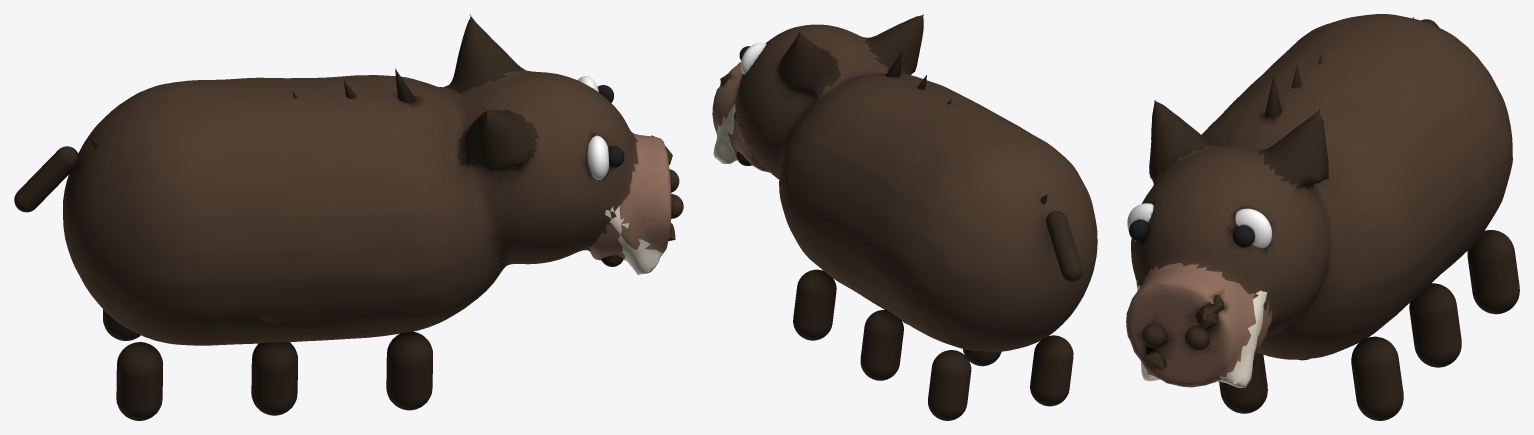
Rendered from jag-har-ont-i-magen.glb.
3 views of the same model, side by side, from view 1: azimuth 30°, elevation 25°; view 2: azimuth 150°, elevation 25°; view 3: azimuth 270°, elevation 25° (orthographic). The views are drawn at different scales.
Visible parts, largest first — view 1: javali__r0, javali__r4, javali__r2, javali__r3, javali__r17, javali__r23; view 2: javali__r0, javali__r4, javali__r9, javali__r7, javali__r8, javali__r17, javali__r3, javali__r5; view 3: javali__r0, javali__r7, javali__r9, javali__r8, javali__r2, javali__r5, javali__r20, javali__r18, javali__r19, javali__r10, javali__r23, javali__r6 (+1 smaller).
Boxes of the visible parts, bbox=[...] form: javali__r0: bbox=[63, 14, 671, 345]; javali__r4: bbox=[116, 342, 162, 420]; javali__r2: bbox=[386, 331, 432, 410]; javali__r3: bbox=[251, 342, 297, 415]; javali__r17: bbox=[14, 146, 79, 212]; javali__r23: bbox=[587, 135, 609, 179]; javali__r0: bbox=[712, 14, 1097, 351]; javali__r4: bbox=[1030, 335, 1073, 406]; javali__r9: bbox=[928, 350, 971, 420]; javali__r7: bbox=[793, 269, 836, 340]; javali__r8: bbox=[860, 310, 903, 380]; javali__r17: bbox=[1046, 211, 1082, 281]; javali__r3: bbox=[963, 349, 1001, 366]; javali__r5: bbox=[741, 42, 766, 74]; javali__r0: bbox=[1126, 14, 1512, 387]; javali__r7: bbox=[1351, 336, 1403, 420]; javali__r9: bbox=[1467, 230, 1519, 314]; javali__r8: bbox=[1409, 283, 1461, 367]; javali__r2: bbox=[1219, 352, 1267, 413]; javali__r5: bbox=[1235, 208, 1272, 248]; javali__r20: bbox=[1196, 295, 1223, 329]; javali__r18: bbox=[1142, 323, 1167, 348]; javali__r19: bbox=[1185, 325, 1209, 350]; javali__r10: bbox=[1265, 74, 1281, 118]; javali__r23: bbox=[1127, 203, 1153, 241]; javali__r6: bbox=[1232, 225, 1254, 247].
Size of the model in its own units: 1.61 by 0.9777 by 0.991.
